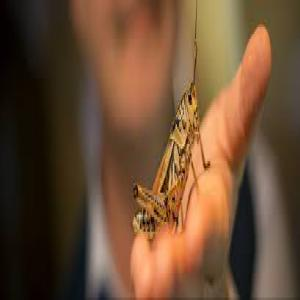locust: (126, 40, 217, 296)
